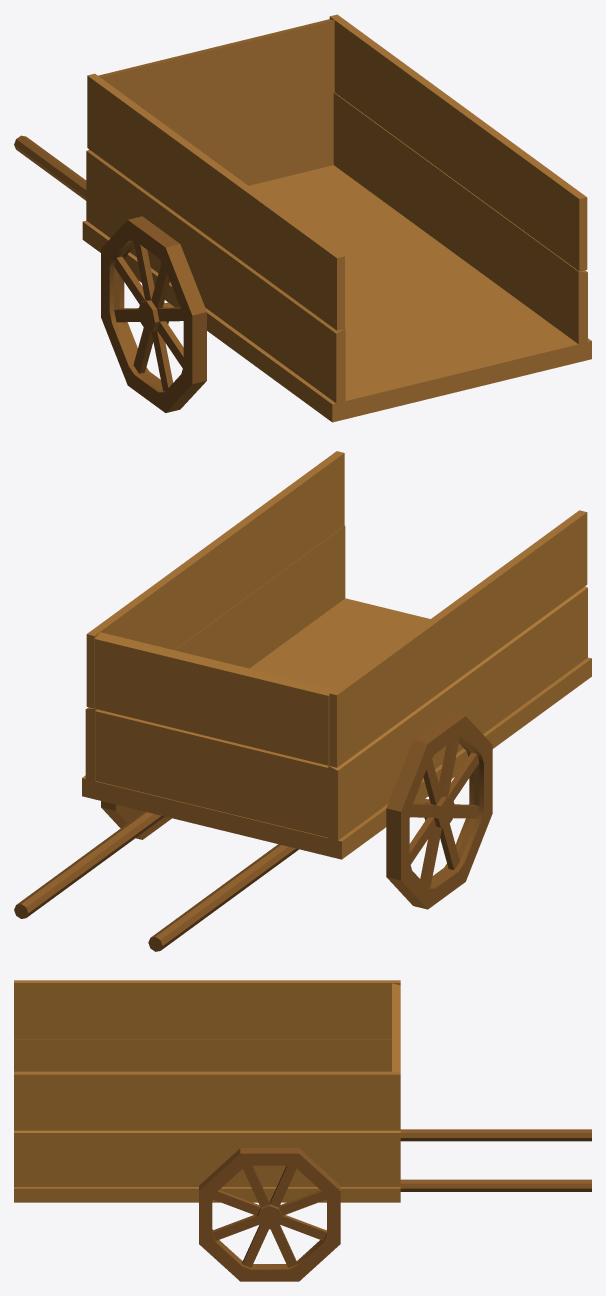
The model's file is Car.fbx.
The picture shows the model from 3 angles, top to bottom: view 1: azimuth 30°, elevation 25°; view 2: azimuth 150°, elevation 25°; view 3: azimuth 270°, elevation 25°; orthographic projection. The views are drawn at different scales.
Parts seen in each view (by area): view 1: Car; view 2: Car; view 3: Car.
Boxes of the visible parts, bbox=[...] form: Car: bbox=[14, 14, 591, 422]; Car: bbox=[14, 451, 591, 951]; Car: bbox=[14, 980, 591, 1281].
Size of the model in its own units: 173 by 141 by 374.
